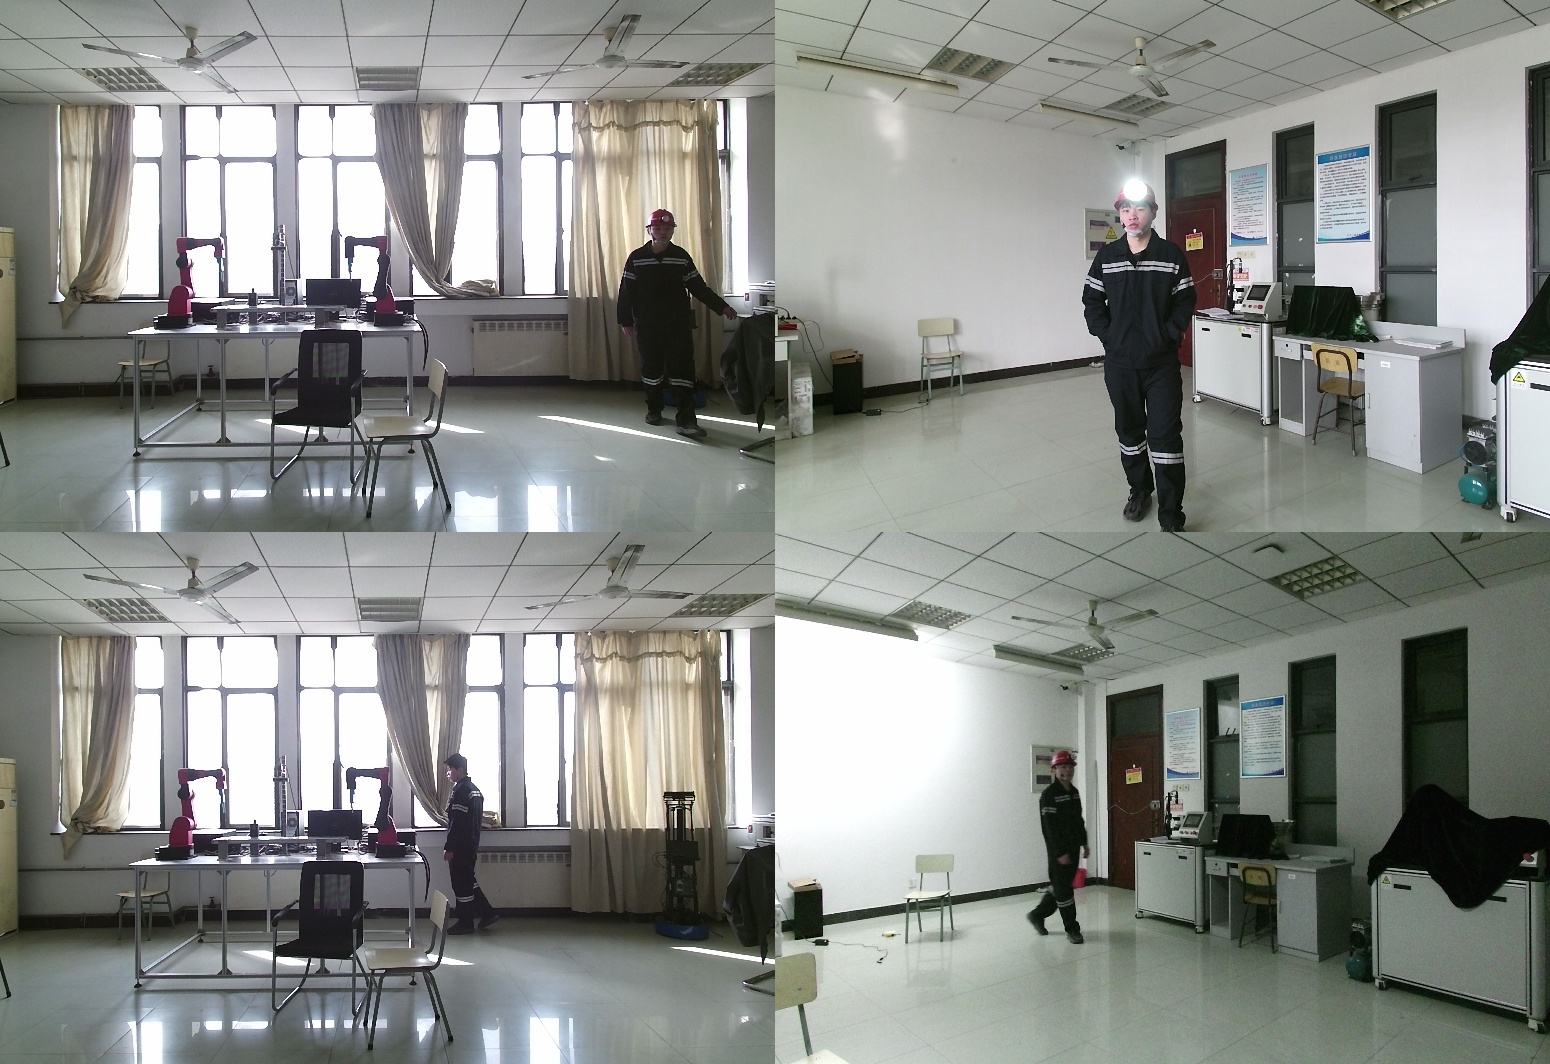person: (1079, 182, 1209, 532), (620, 209, 725, 433), (1021, 752, 1087, 958), (445, 752, 503, 941)
